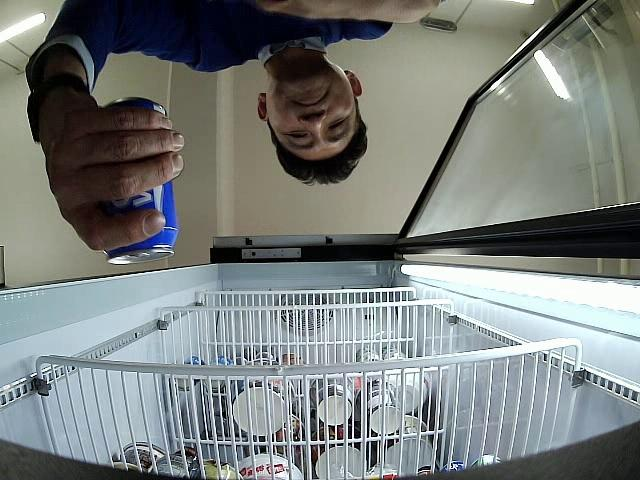00_hand: (41, 105, 186, 254)
13_pocariSweat: (103, 96, 178, 265)
